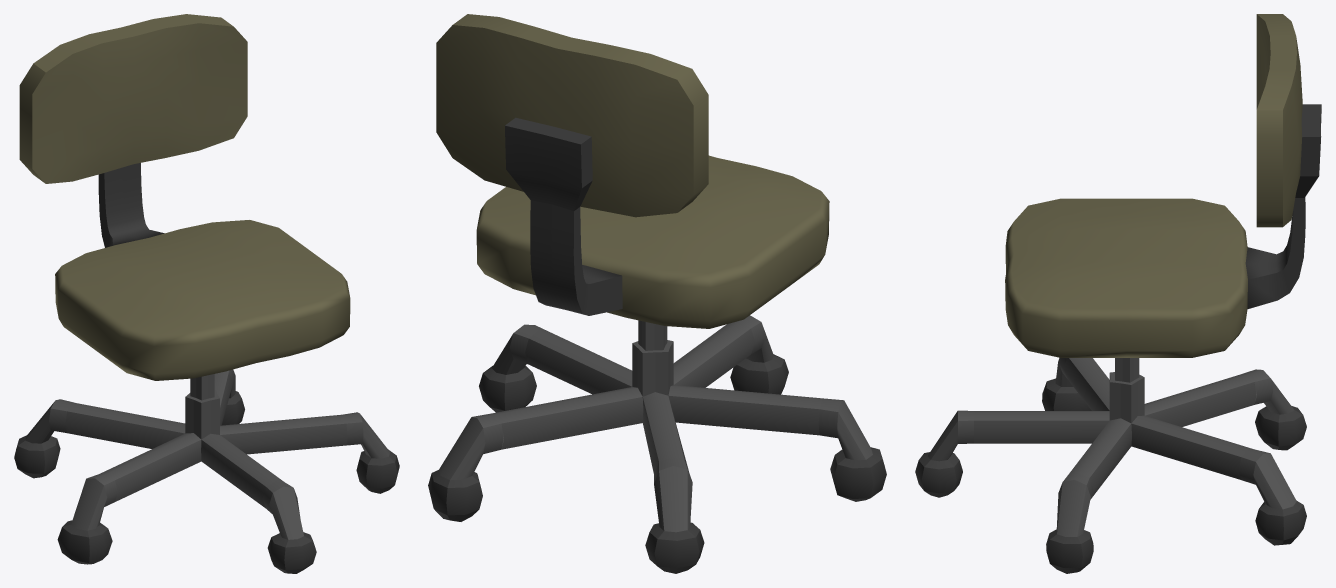
The model's file is SM_Chair_01.fbx.
3 renders of one model, left to right at view 1: azimuth 30°, elevation 25°; view 2: azimuth 150°, elevation 25°; view 3: azimuth 270°, elevation 25°, orthographic. The views are drawn at different scales.
Visible parts, largest first — view 1: SM_Chair_01; view 2: SM_Chair_01; view 3: SM_Chair_01.
Part boxes in pixels (bbox=[...]): SM_Chair_01: bbox=[14, 14, 399, 573]; SM_Chair_01: bbox=[428, 14, 886, 573]; SM_Chair_01: bbox=[915, 14, 1321, 573].
Size of the model in its own units: 77.93 by 95.24 by 78.93.
